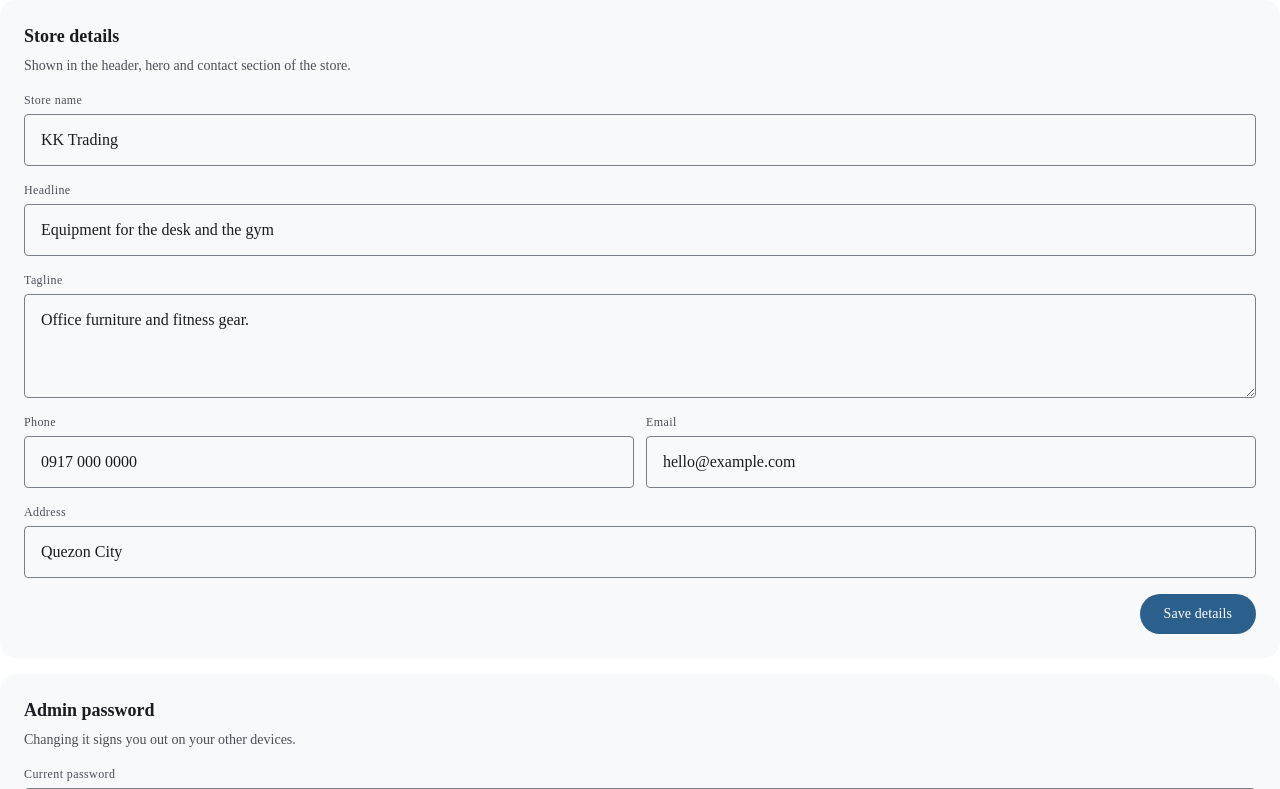
Test: Store details › saves the edited details and shows the snackbar
Replace the text in the field labelled "Store name" with "KK Trading PH" at (640,140), box [24,114,1256,166]
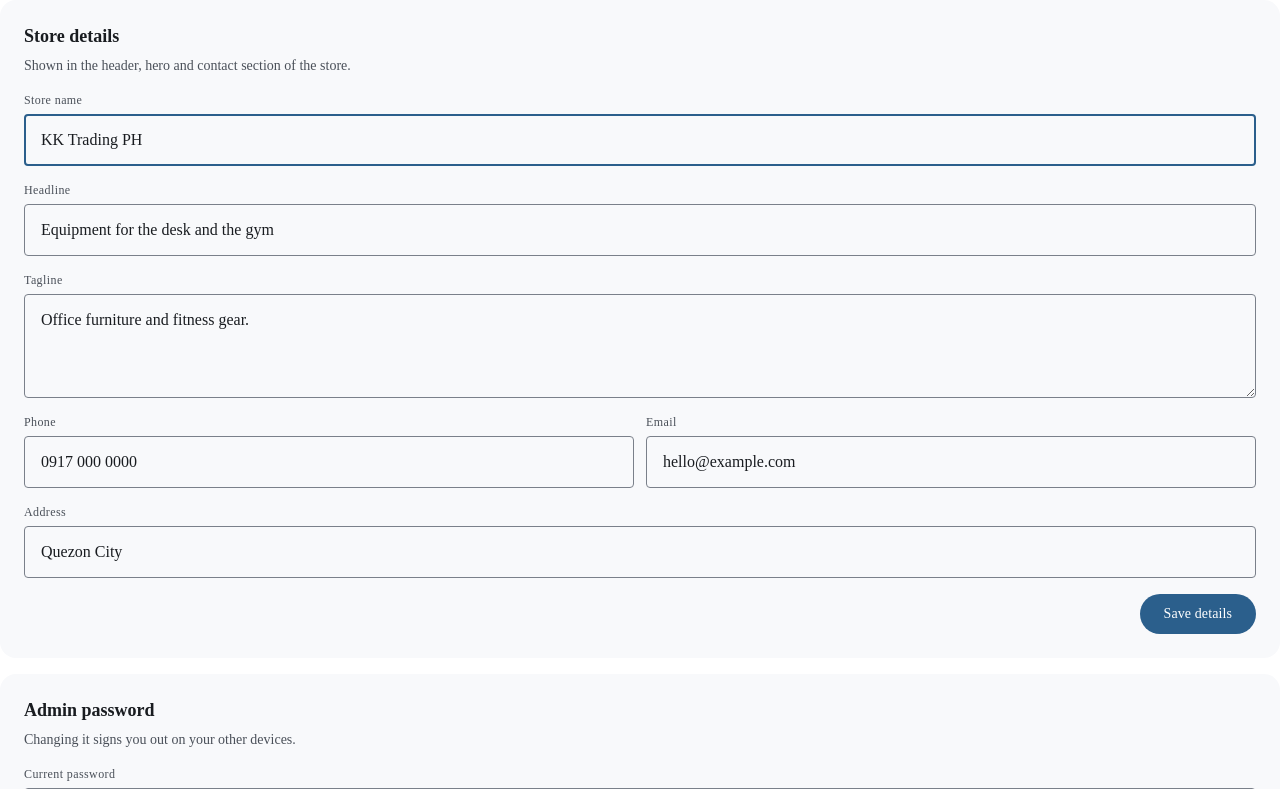
Click the button "Save details" at (1198,614), box [1140,594,1256,634]
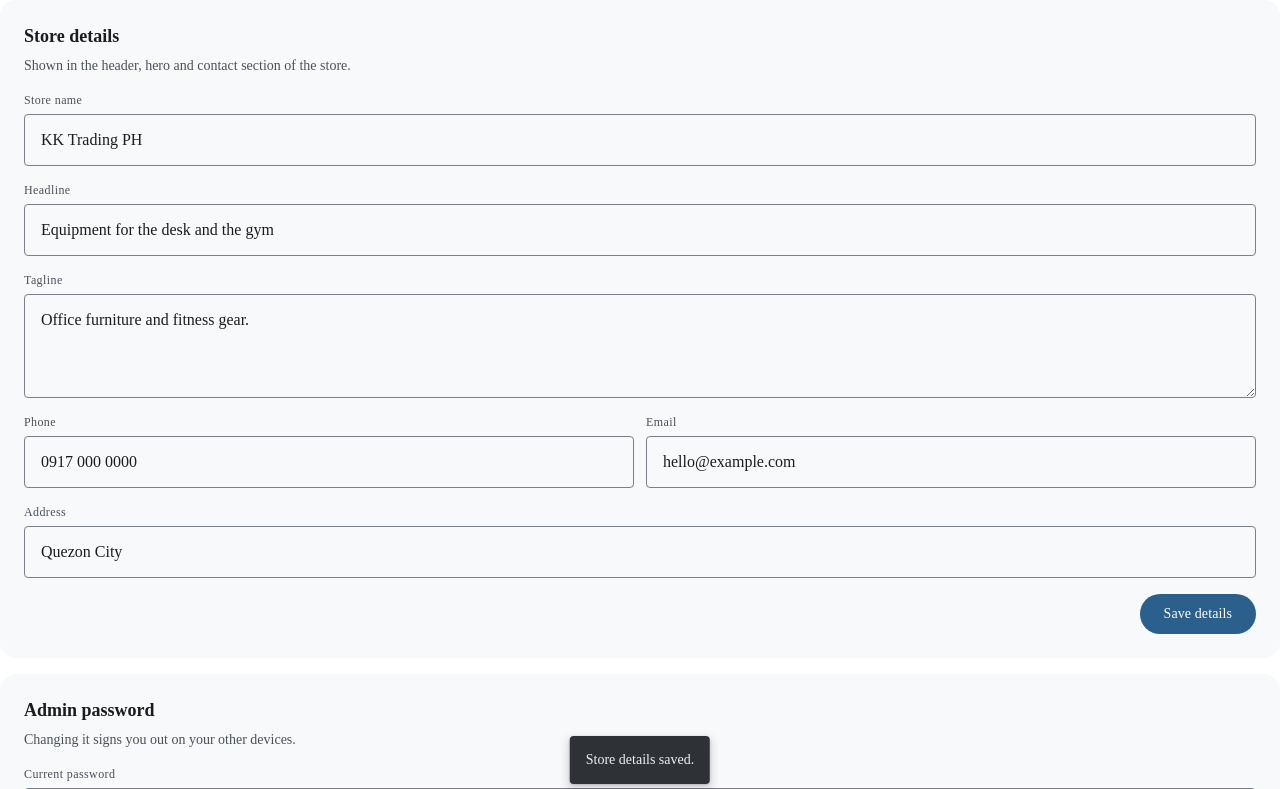
Check: the message reads "Store details saved.", box [586,752,694,767]
